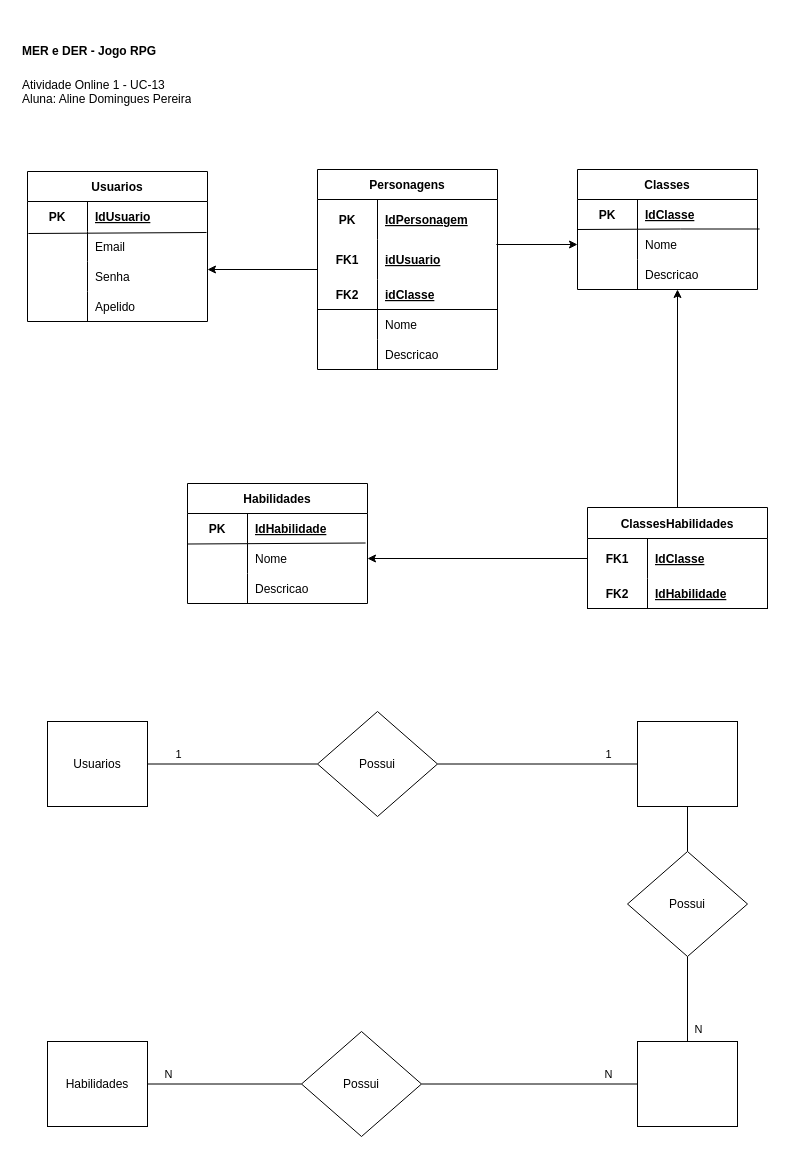
Some shapes in this 785 by 1154 pixel diagram are drawn without their labels. Each missing label, with the centre of its shape:
"Classe" goes at [687,1083].
"Personagem" goes at [687,763].
